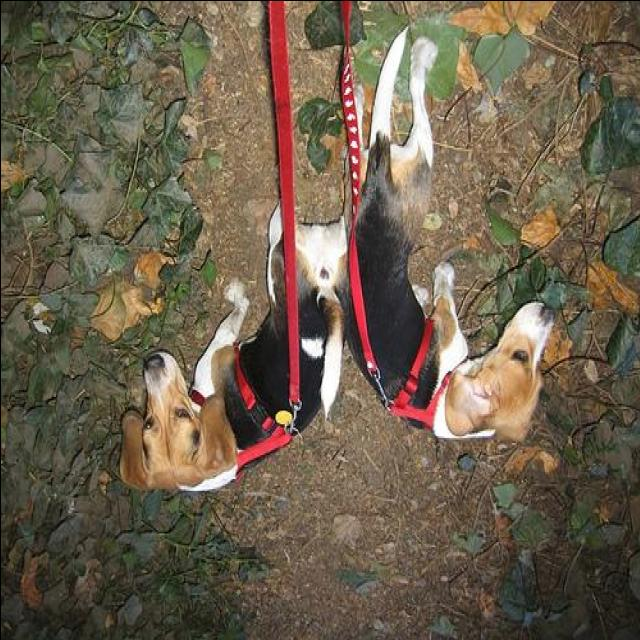beagle: (347, 24, 553, 448), (118, 206, 340, 496)
